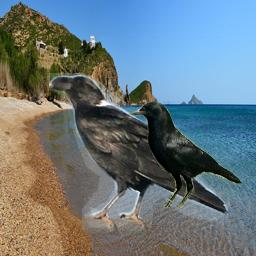Crow: (49, 73, 228, 235), (128, 101, 243, 209)
